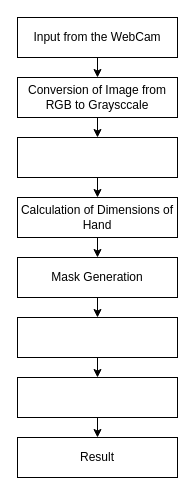
Image size: 195x495. Some labels were removed from this diagram. Each missing label, with the centre of its shape:
Binary thresholding of Image: pixel 97 157
Difference of Silhouette and Mask: pixel 97 337
Refining of the Result: pixel 97 397
